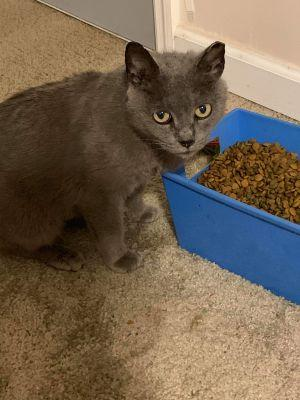rblue: (120, 36, 235, 166)
